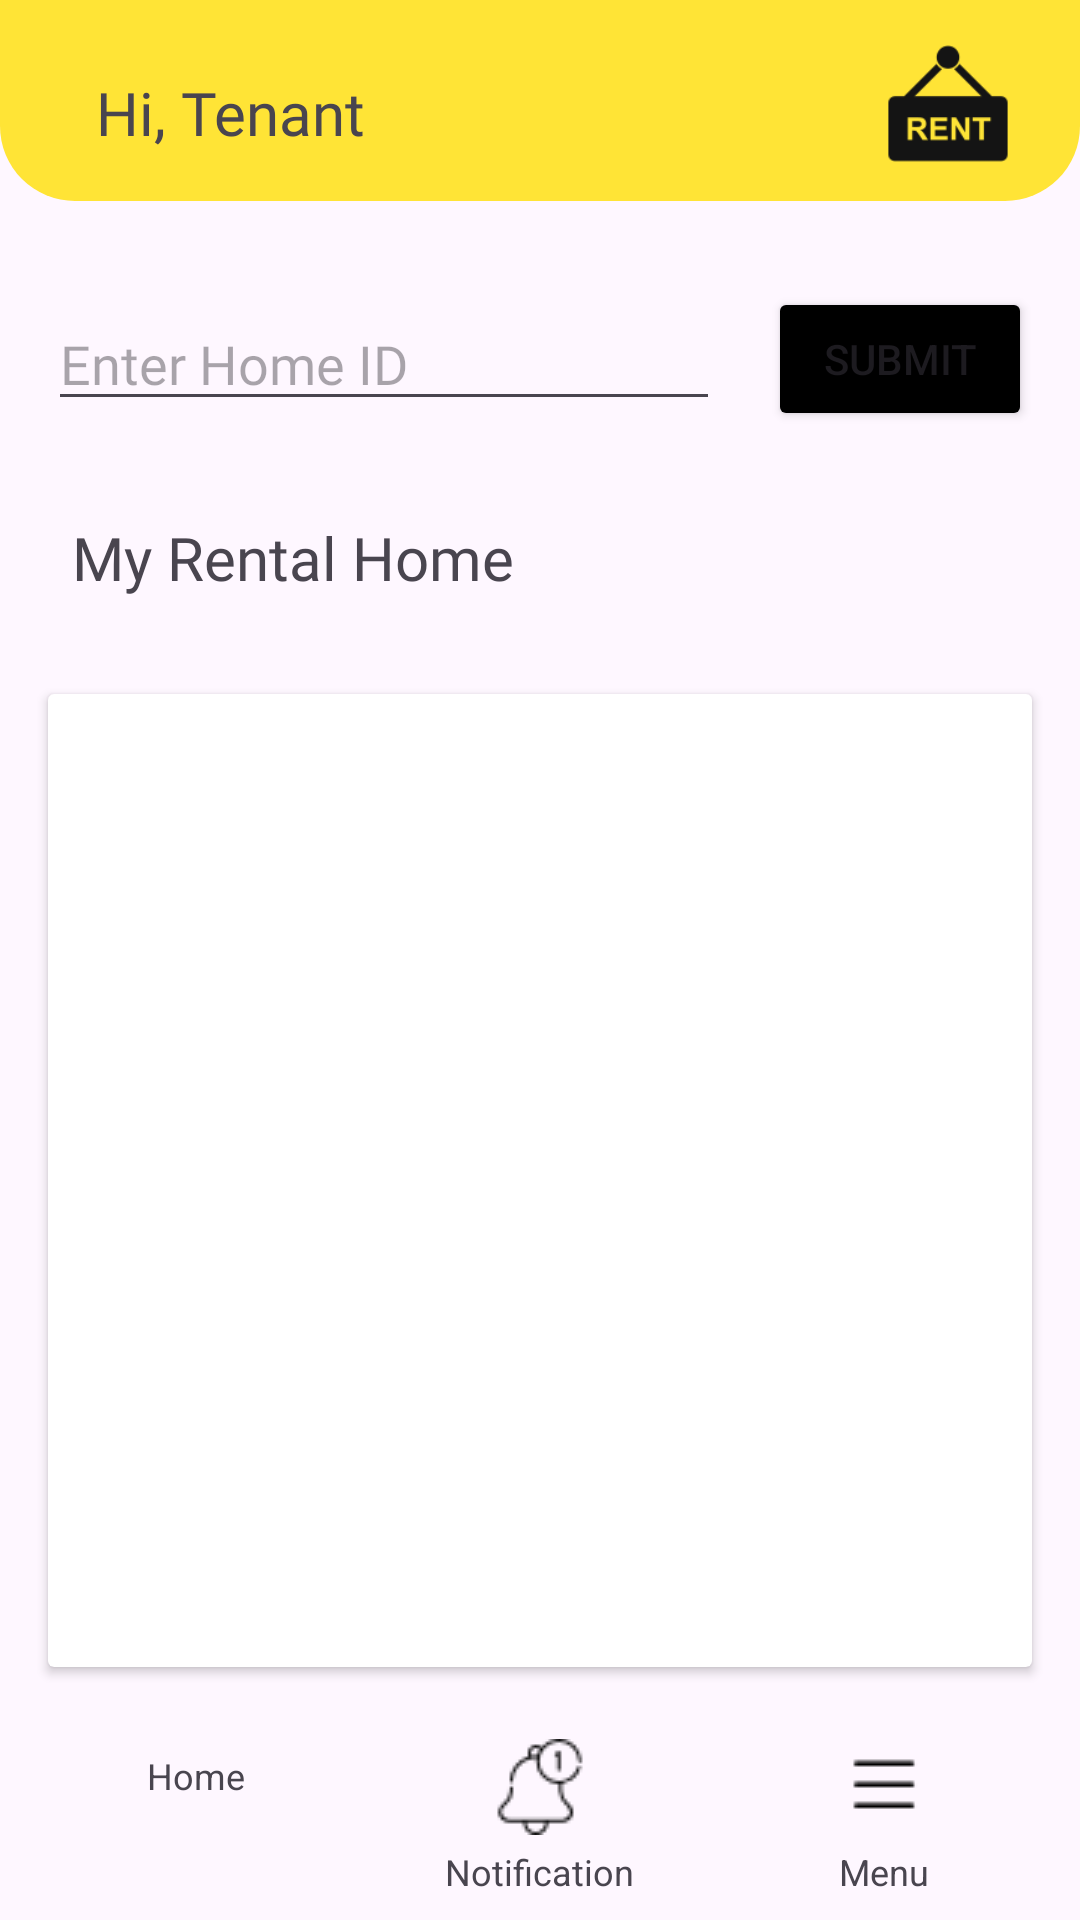

Locate icon controls on the screen. Image size 1080*1920, boxes as {"left": x1, "top": y1, "right": x2, "bottom": y2}.
sign: {"left": 888, "top": 45, "right": 1008, "bottom": 162}
